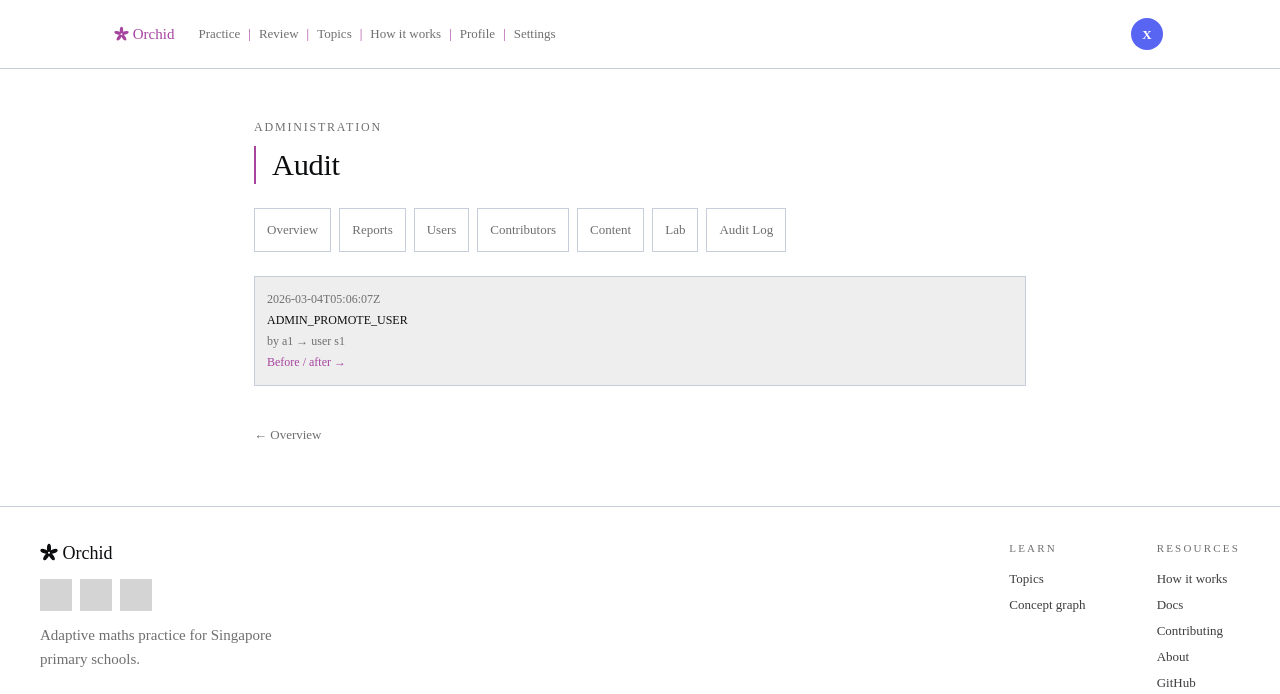
Test case: the audit page is read-only › offers no way to alter an event
Expected: the text "ADMIN_PROMOTE_USER" is shown, top-left (267, 313), bottom-right (408, 327)
Expected: the button "edit" is not shown
Click the button "ADMIN_PROMOTE_USER".
click(324, 299)  # box top-left (255, 277), bottom-right (1025, 385)
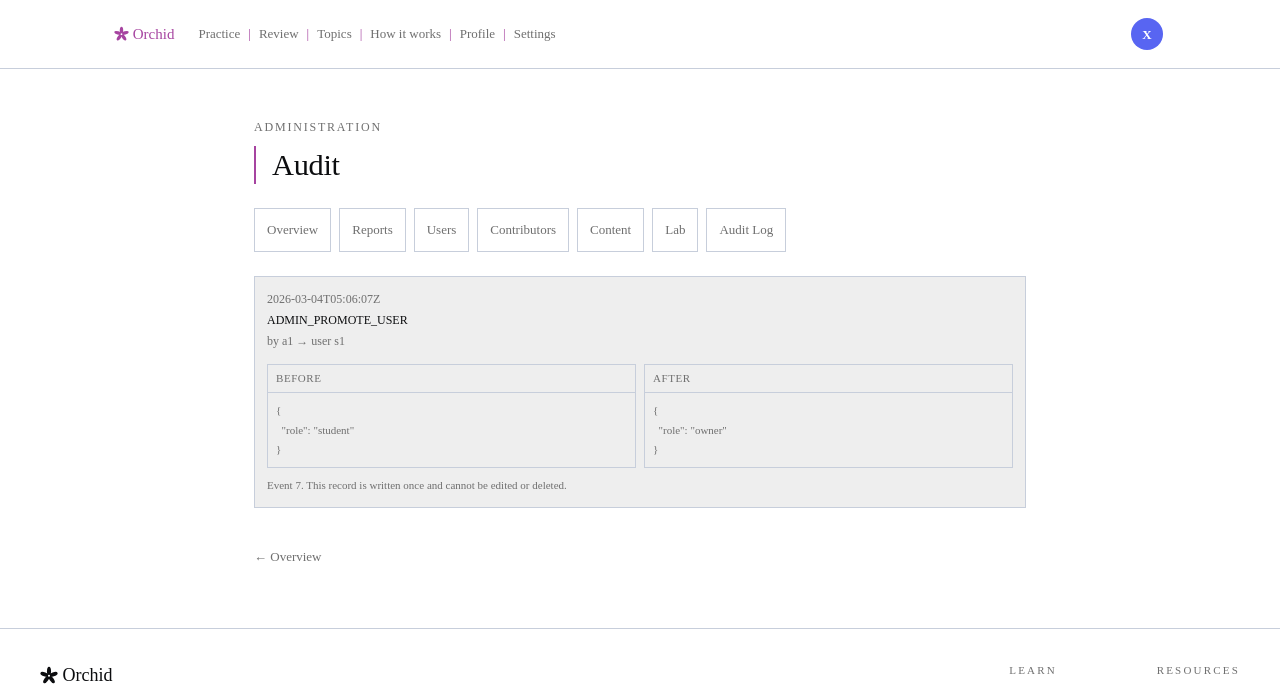
Now the text "cannot be edited or deleted" is shown, box top-left (301, 479), bottom-right (567, 491)
